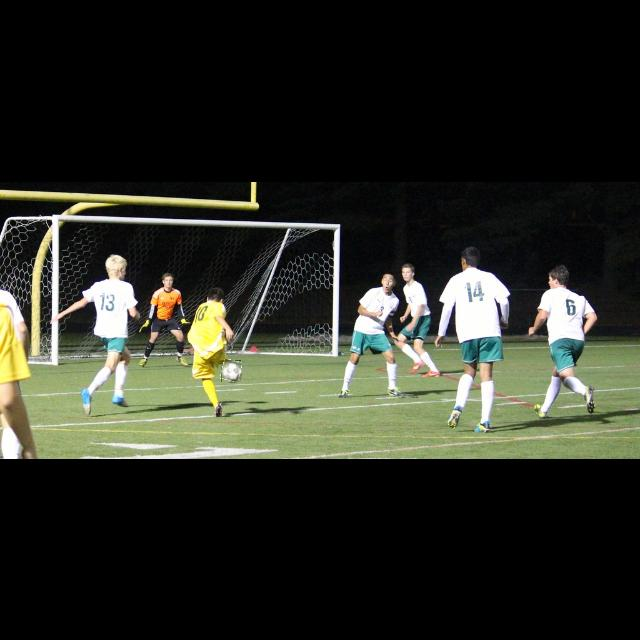Football: (221, 360, 241, 382)
